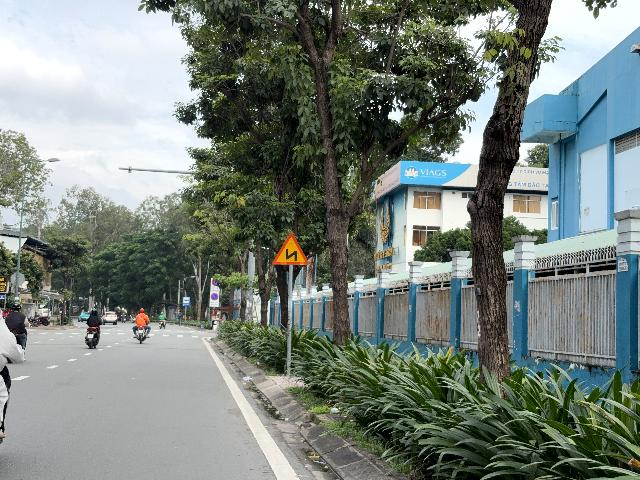nhieu-cho-ngoat-nguy-hiem-lien-tiep: (272, 232, 309, 265)
